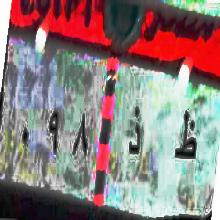0: (16, 115, 32, 163)
8: (72, 111, 90, 168)
9: (43, 104, 61, 164)
Thaa: (173, 108, 198, 170)
zaal: (126, 99, 144, 169)
